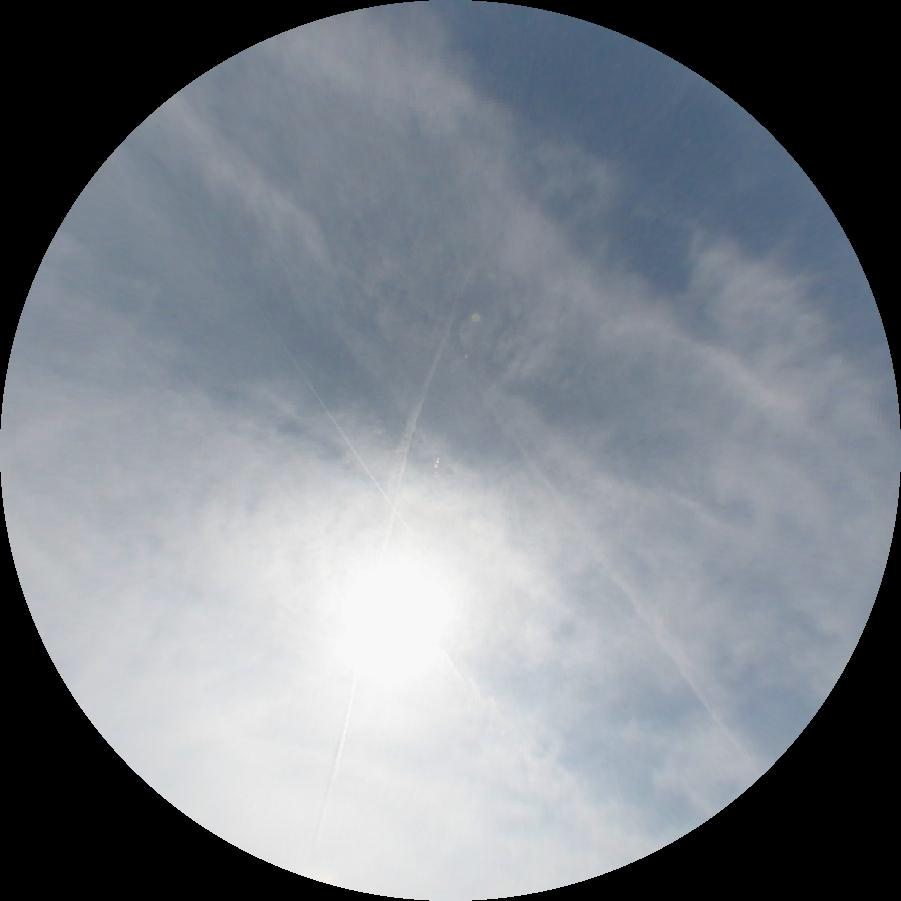contrail old: (287, 249, 482, 858), (499, 415, 774, 780)
contrail young: (259, 311, 415, 540)
sun: (320, 541, 462, 698)
